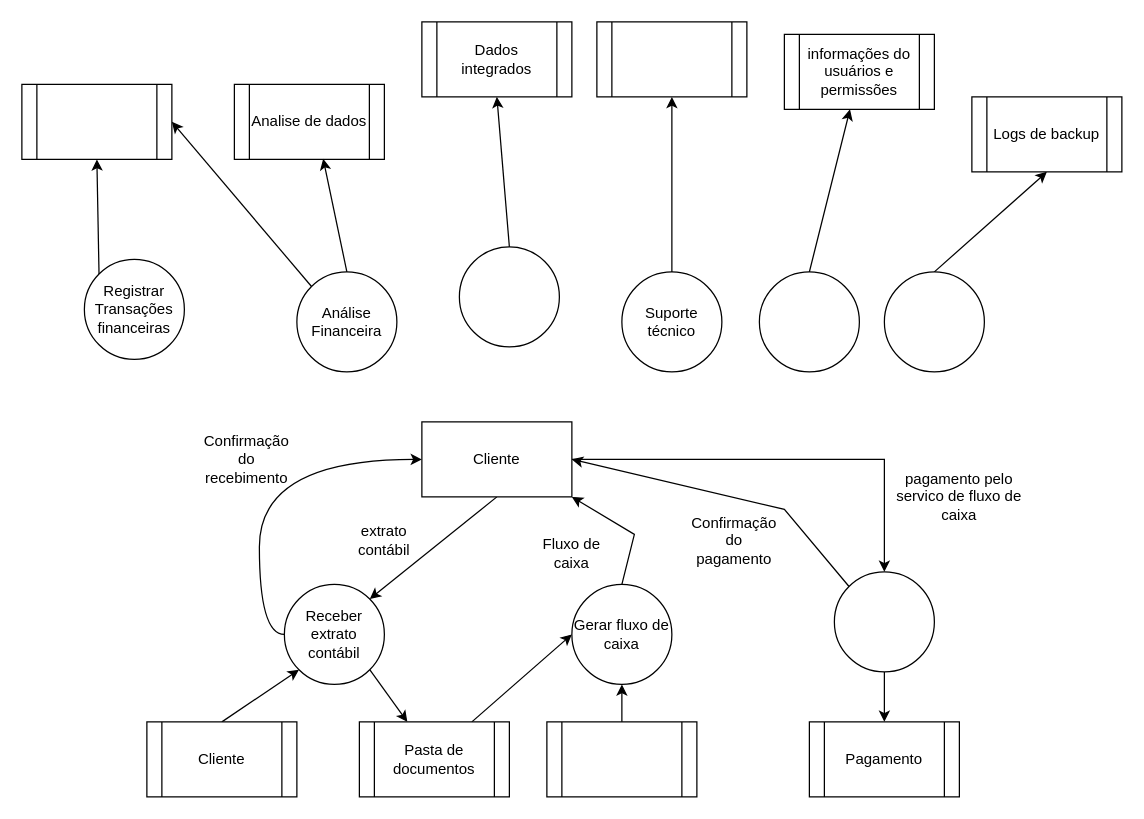
This 1144x819 diagram has some shape labels left out. The shapes that lost their labels are listed below. From the top down, each one's centre as x and y in pixels, then its label:
the point at 671,59: Registro de suporte Técnico
the point at 96,121: Registro financeiro
the point at 508,296: interagir com a plataforma de nf-e
the point at 808,321: gerenciar usuarios e permissões
the point at 933,321: Backup e segurança dos dados
the point at 883,621: Recebimento do pagamento do serviço
the point at 621,759: Bancos
